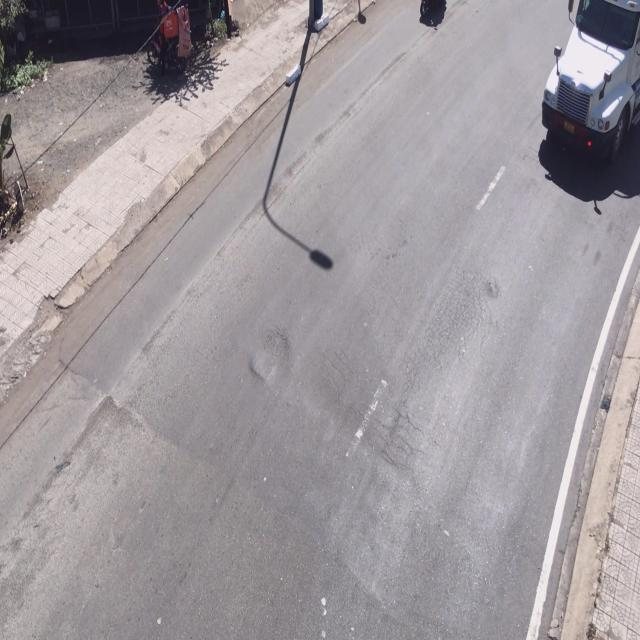motorbike: (417, 0, 449, 28)
truck: (541, 0, 639, 168)
